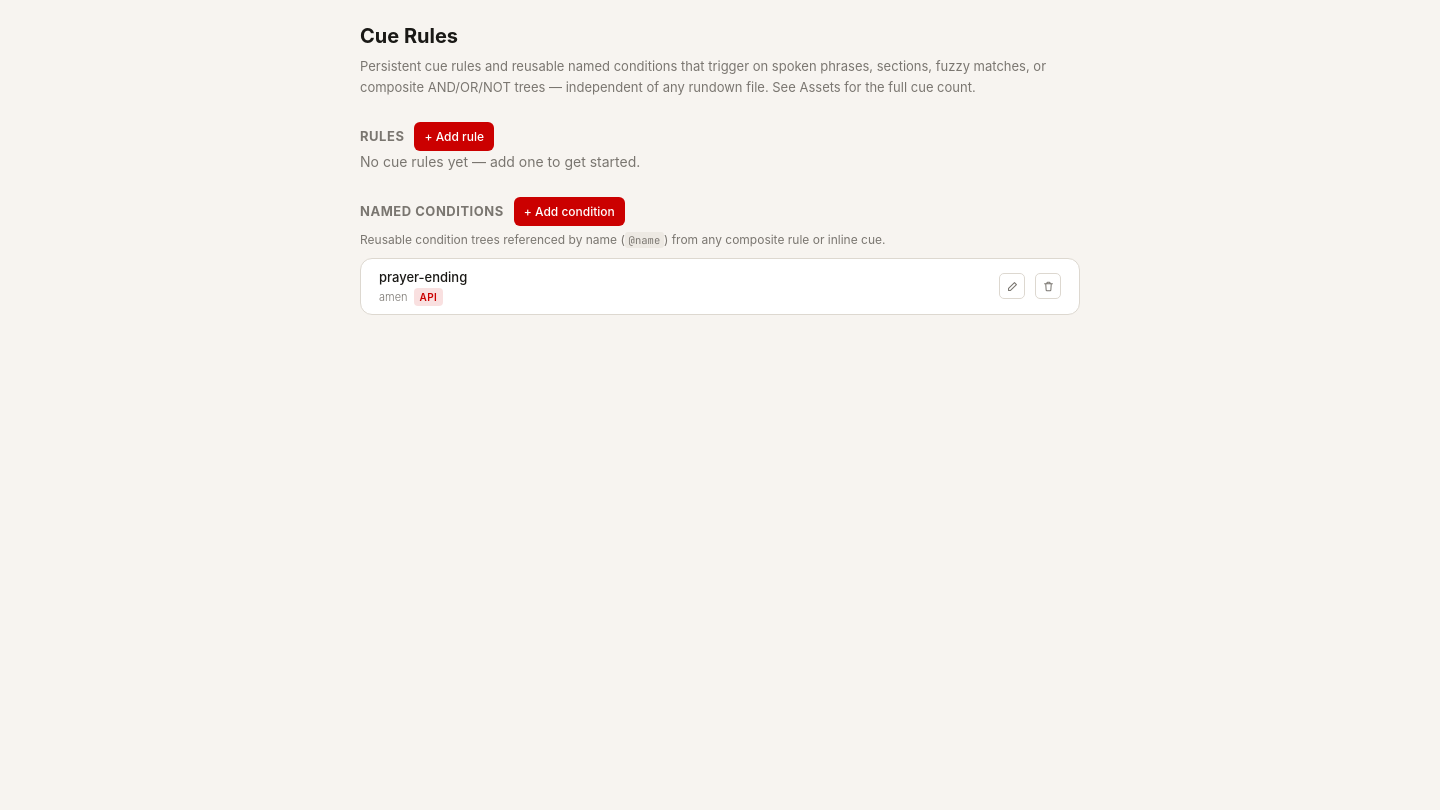
Test: CuesManager — Named Conditions › a composite rule ref leaf offers named conditions in its dropdown
Expected: the text "No cue rules yet — add one to get started." is shown, [360,153,640,170]
Click the button "+ Add rule".
click(454, 136)  # box [414,122,494,151]
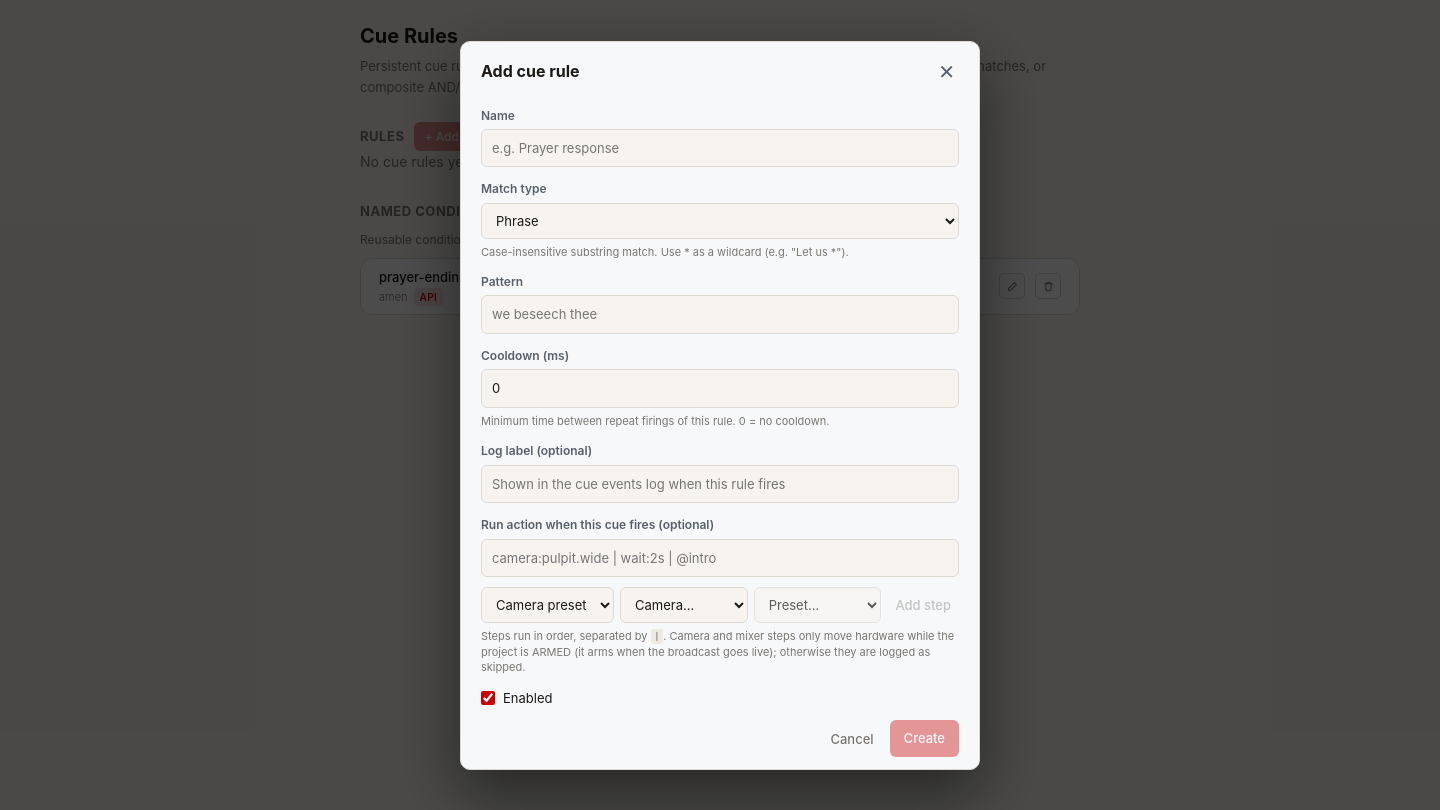
Select "Composite" in the dropdown showing "Phrase" at (720, 221), box [481,203,959,239]
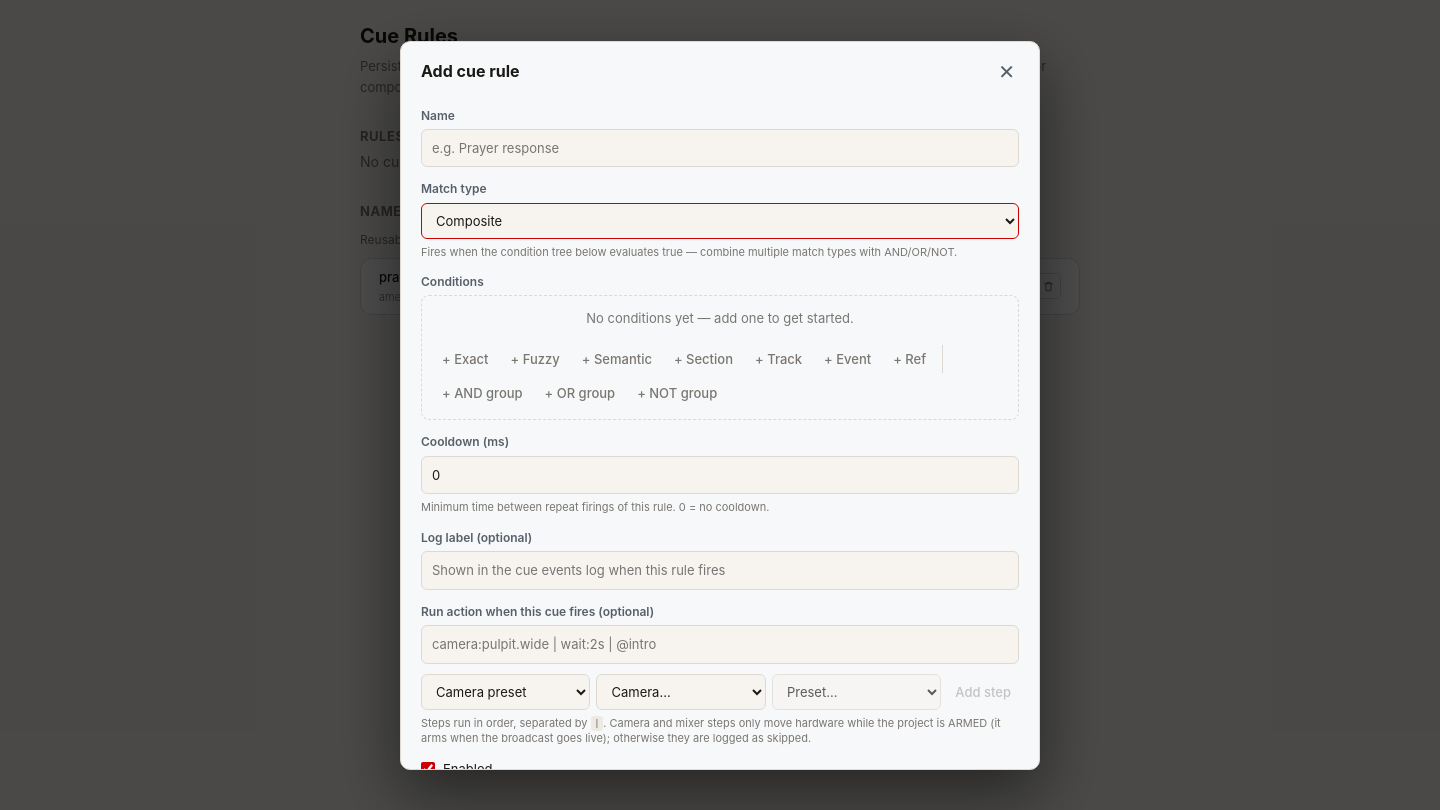
Click the button "+ Ref".
click(910, 359)  # box [885,345,934,373]
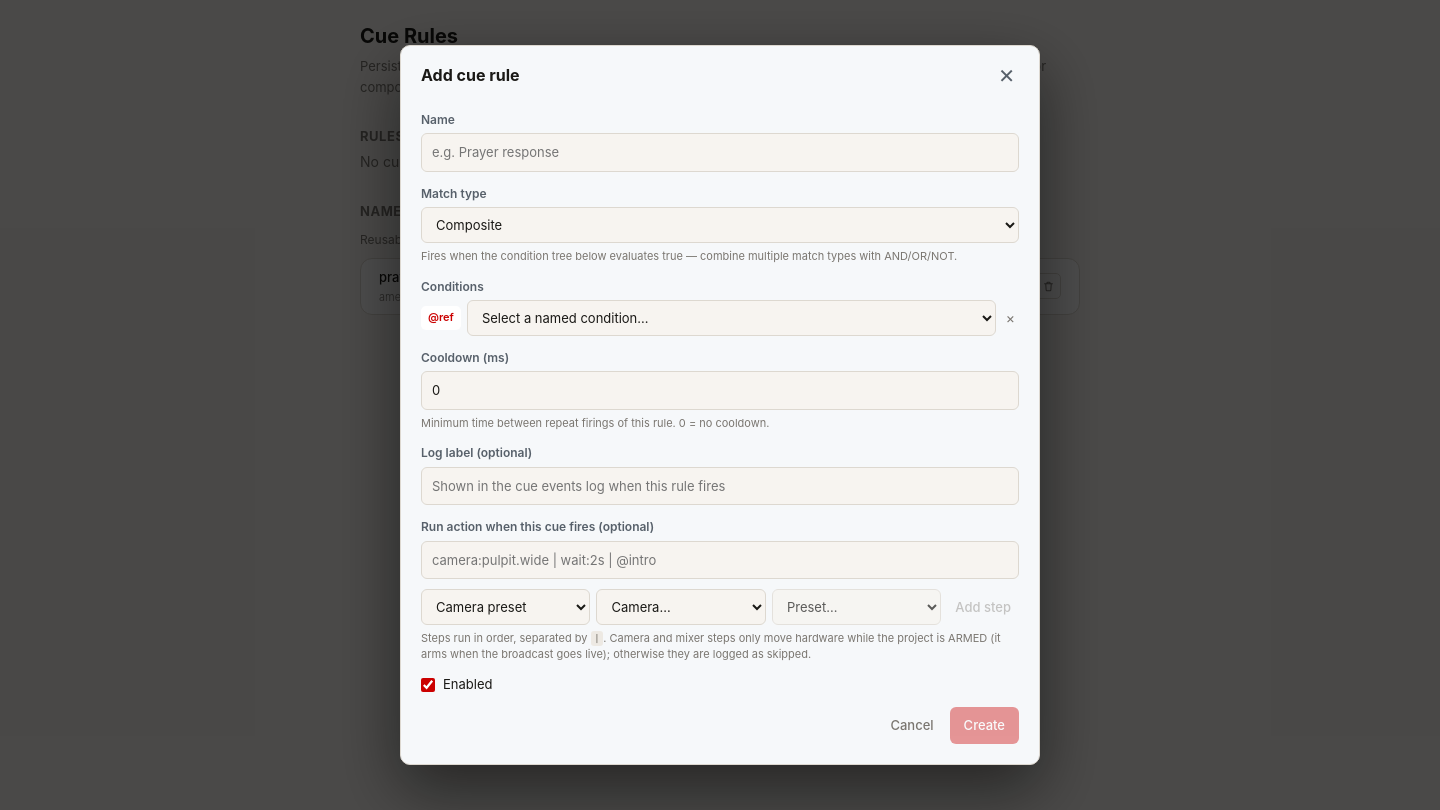
Result: the dropdown next to "@ref" is shown at [467,300,996,336]
